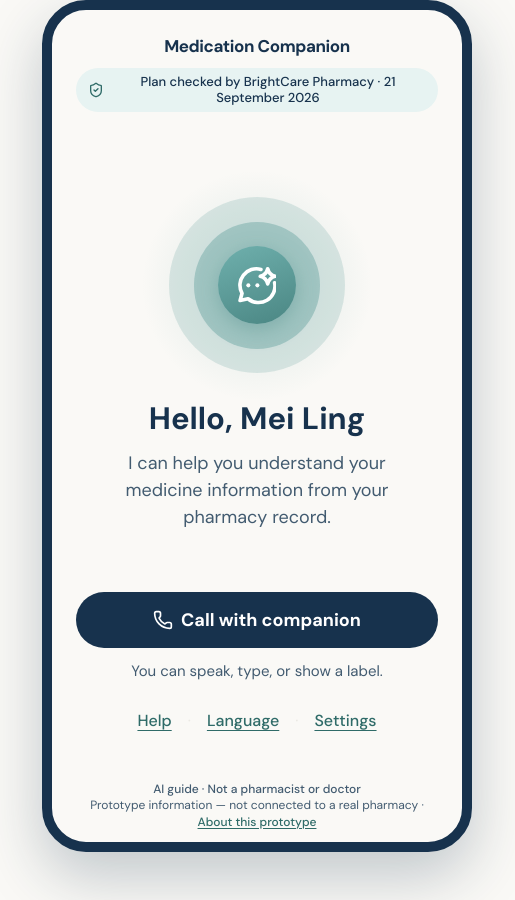
Scenario: contextual controls appear only when they apply › no Show medicine button: the companion asks in words, and a yes asks for consent — still no buttons
Click the button "Call with companion": click(257, 620) [76, 592, 438, 648]
Wait 400 ms
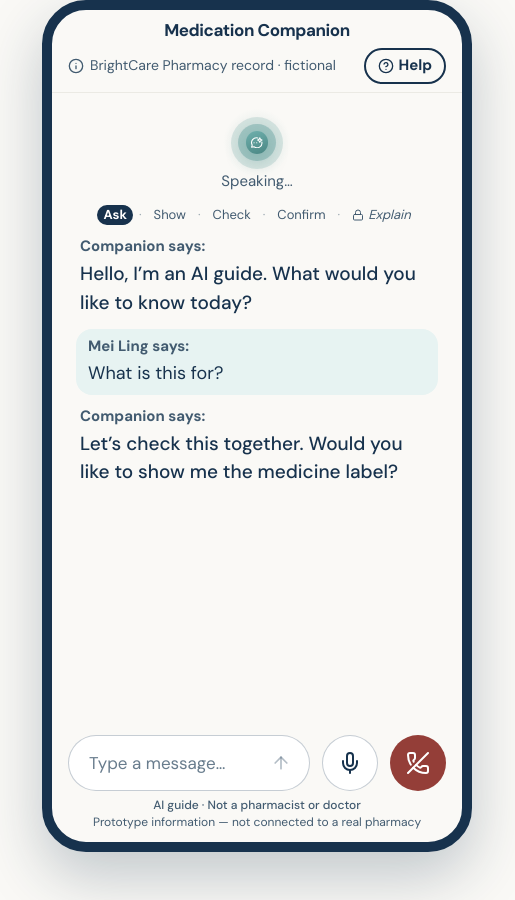
expect the text "Would you like to show me the medicine label?" is shown: met, box [80, 430, 403, 484]
In the field labelled "Type a message…": (171, 763) [89, 736, 253, 790], type "yes"
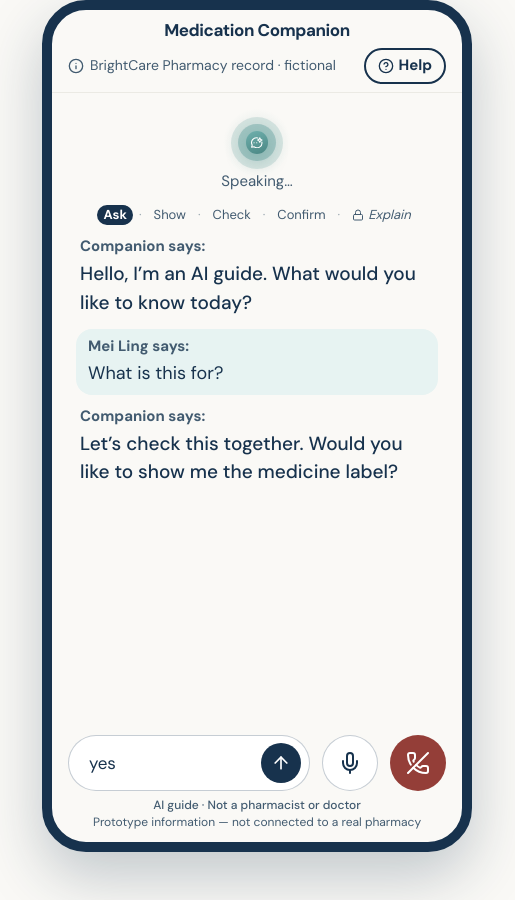
Submit the form named "type a message", box [68, 735, 310, 791]
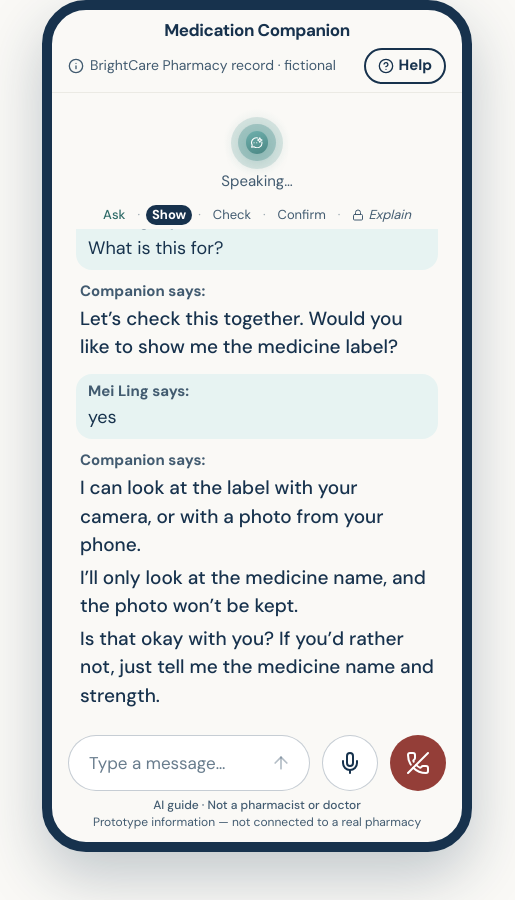
expect the text "Is that okay with you? If you’d rather not, just tell me the medicine name and strength." is shown: met, box [80, 626, 434, 708]
